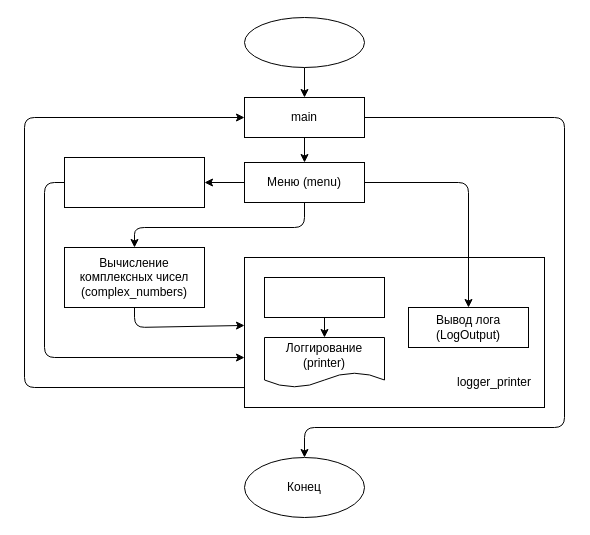
Some shapes in this 590 by 535 pixel diagram are drawn without their labels. The shapes that lost their labels are listed below. From the top down, each one's centre as x and y in pixels, then its label:
At point (304, 42): "Начало".
At point (134, 182): "Вычисление вещественных чисел (real_numbers)".
At point (324, 297): "Вывод результата".
